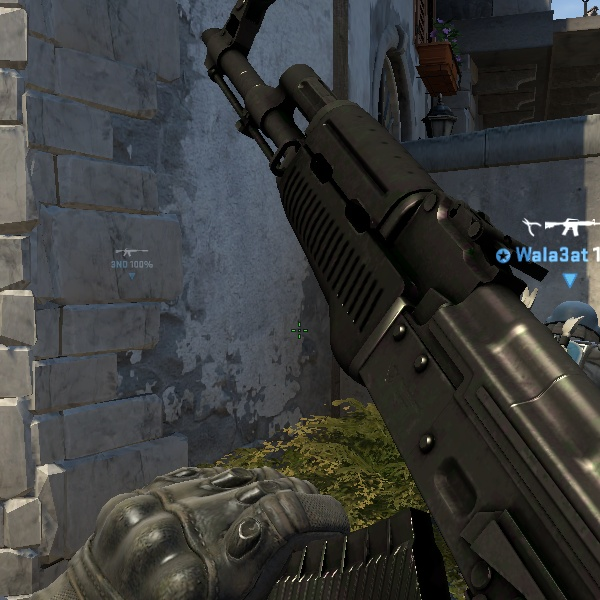ct_body: (10, 17, 582, 600)
t_body: (52, 19, 599, 597)
